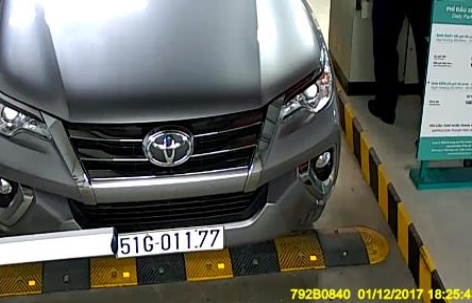plate: (114, 225, 229, 264)
